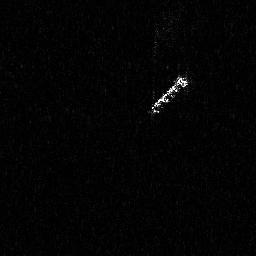ship: (147, 70, 193, 117)
